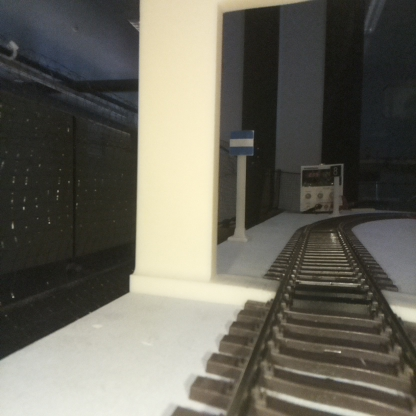start: (229, 130, 253, 241)
